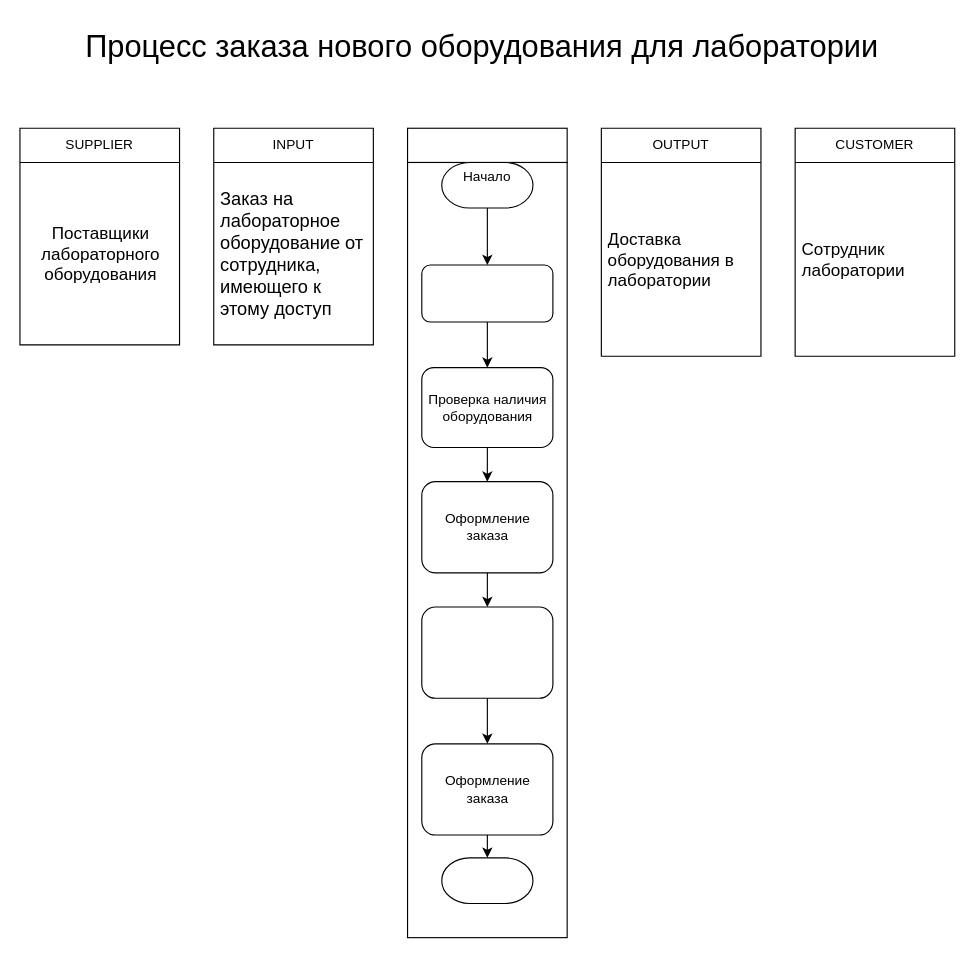
The diagram is 975 pixels wide and 958 high, and some of its shapes have lost their labels. The shapes that lost their labels are listed below. From the top down, each one's centre as x and y in pixels, then its label:
At [486,144]: "PROCESS".
At [487,293]: "Поступление заказа".
At [487,652]: "Подтверждение оплаты".
At [487,880]: "Конец".
